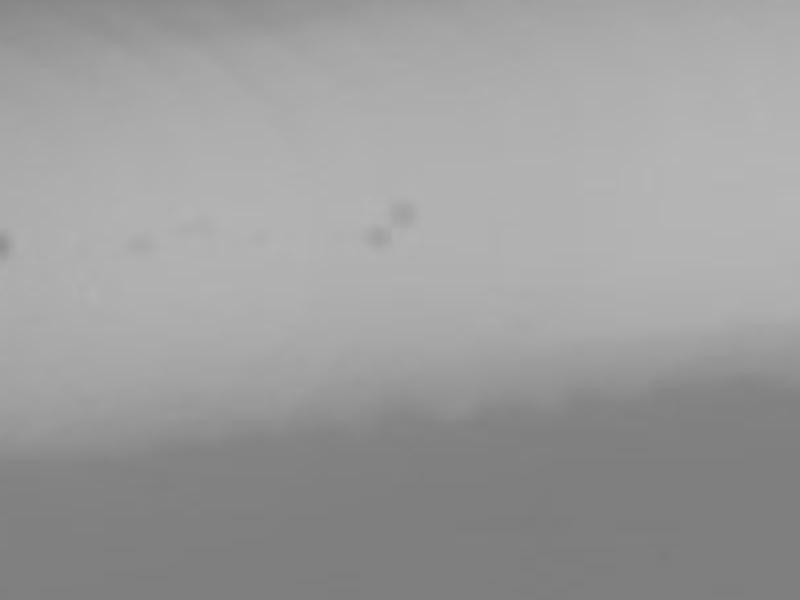defect: (388, 197, 417, 227), (361, 222, 392, 249), (126, 230, 153, 256), (1, 231, 15, 263)
